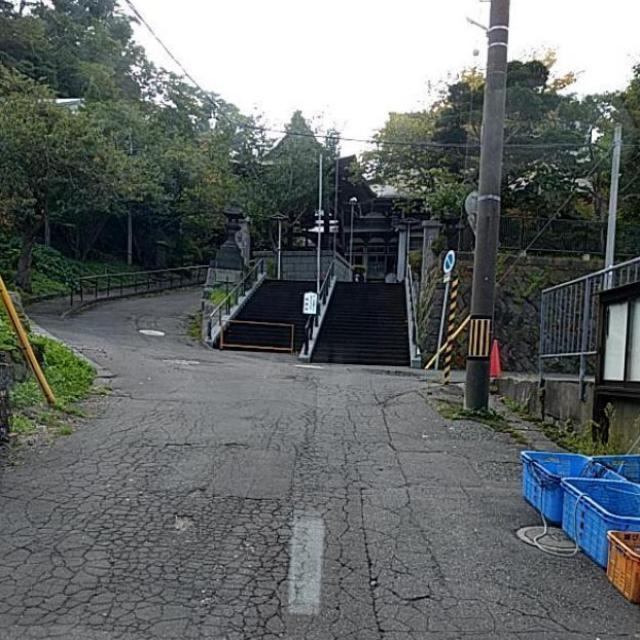Retak Buaya: (0, 436, 294, 640)
